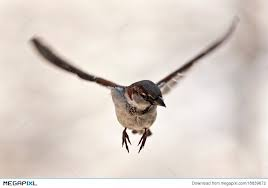hsparrow: (26, 18, 244, 157)
